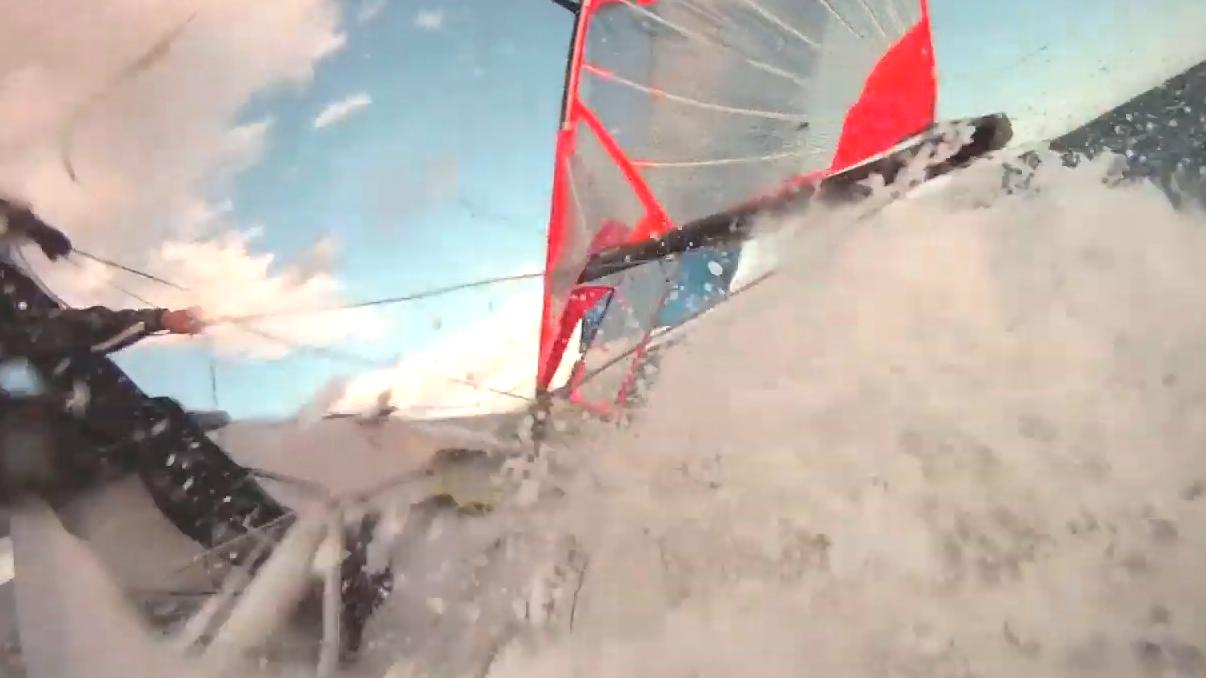boat: (3, 0, 1014, 678)
person: (0, 308, 397, 667), (0, 194, 230, 431)
sea: (390, 59, 1206, 678)
sky: (0, 0, 582, 425), (930, 0, 1206, 166)
